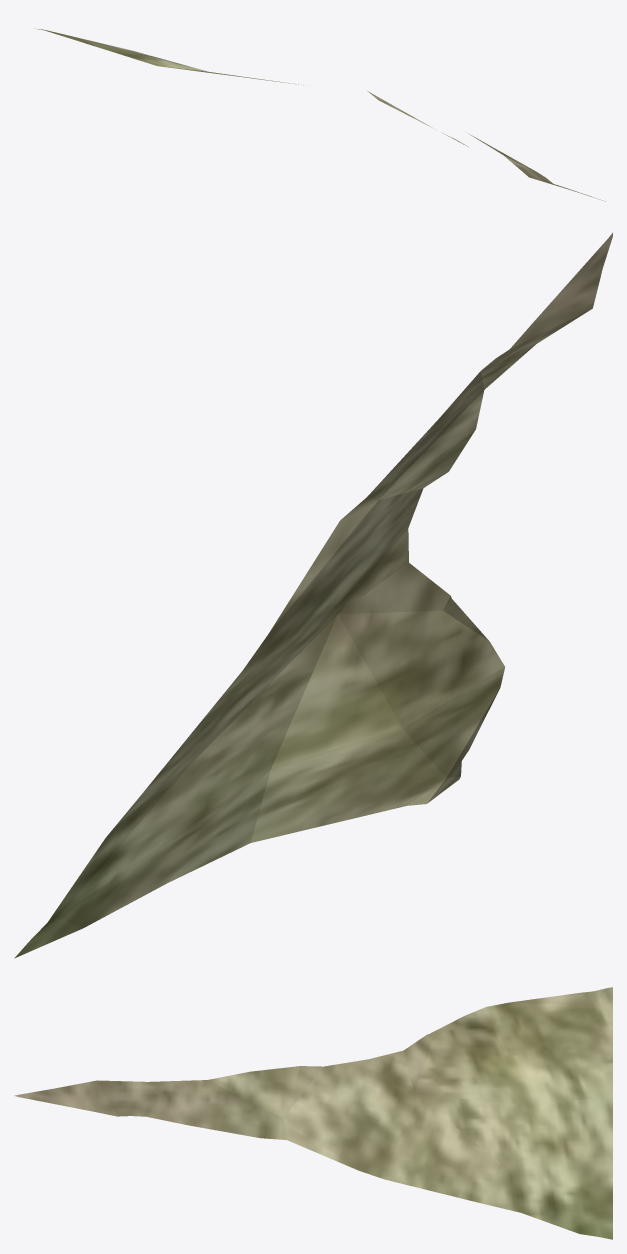
3 renders of one model, top to bottom at view 1: azimuth 30°, elevation 25°; view 2: azimuth 150°, elevation 25°; view 3: azimuth 270°, elevation 25°, orthographic. The views are drawn at different scales.
Bounding box in the file's own units: 0.6207 × 0.3834 × 1.45.
Materials: 1 (1 with a texture image).
